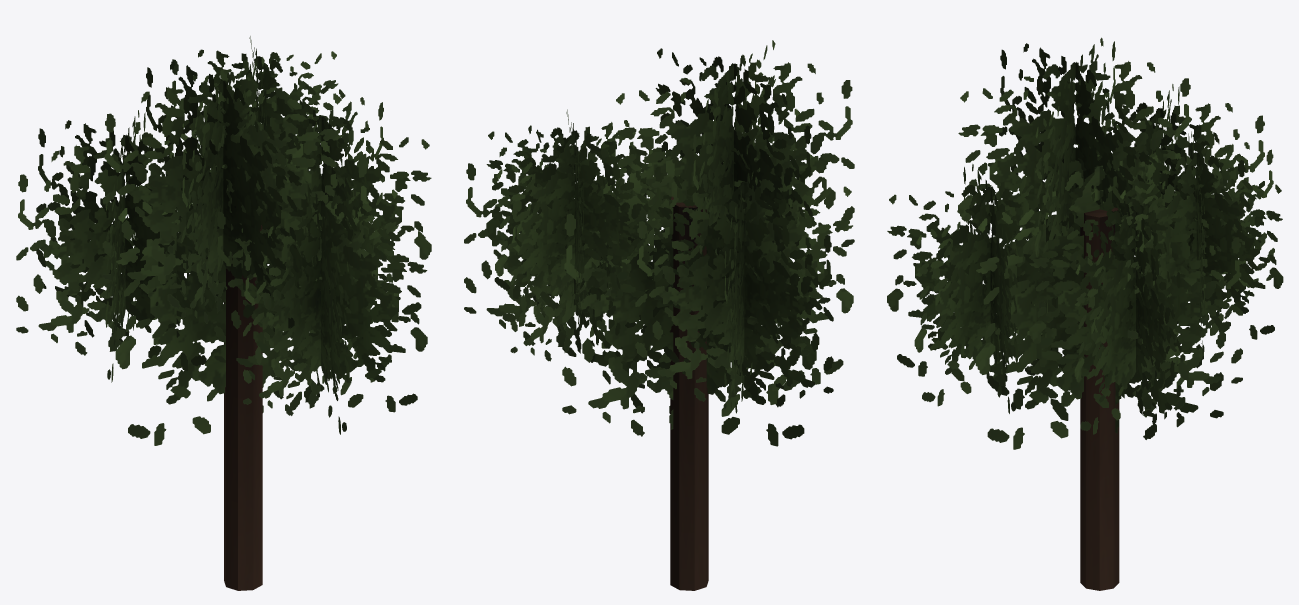
File: tree.glb
3 views of the same model, side by side, from view 1: azimuth 30°, elevation 25°; view 2: azimuth 150°, elevation 25°; view 3: azimuth 270°, elevation 25° (orthographic). The views are drawn at different scales.
Visible parts, largest first — view 1: tree; view 2: tree; view 3: tree.
Boxes of the visible parts, x1,y1,x2,y2 form: tree: (16,36,431,590); tree: (464,40,854,590); tree: (887,37,1283,590).
Bounding box in the file's own units: 3.45 × 4.6 × 3.29.
Materials: 2 (2 with a texture image).
